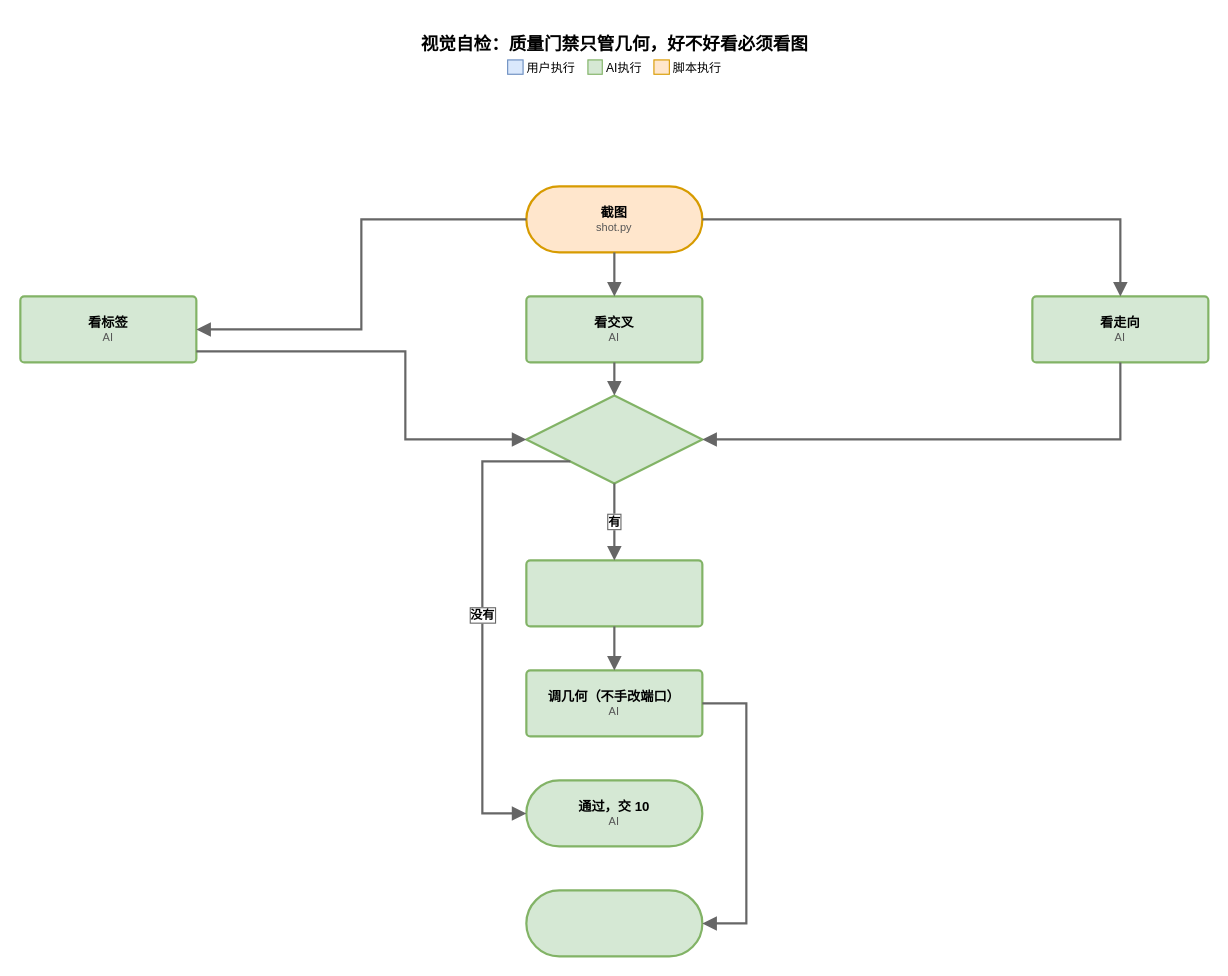
Image size: 1228x976. Some labels were removed from this diagram. The shapes that lost their labels are listed below. From the top down, each one's box as (x1, y1, x2, y2) in pixels, then its label:
(525, 394, 703, 484): 有问题吗？
(525, 559, 703, 627): 先查标签是否过长 AI
(525, 889, 703, 957): 回 08 重出图 AI
